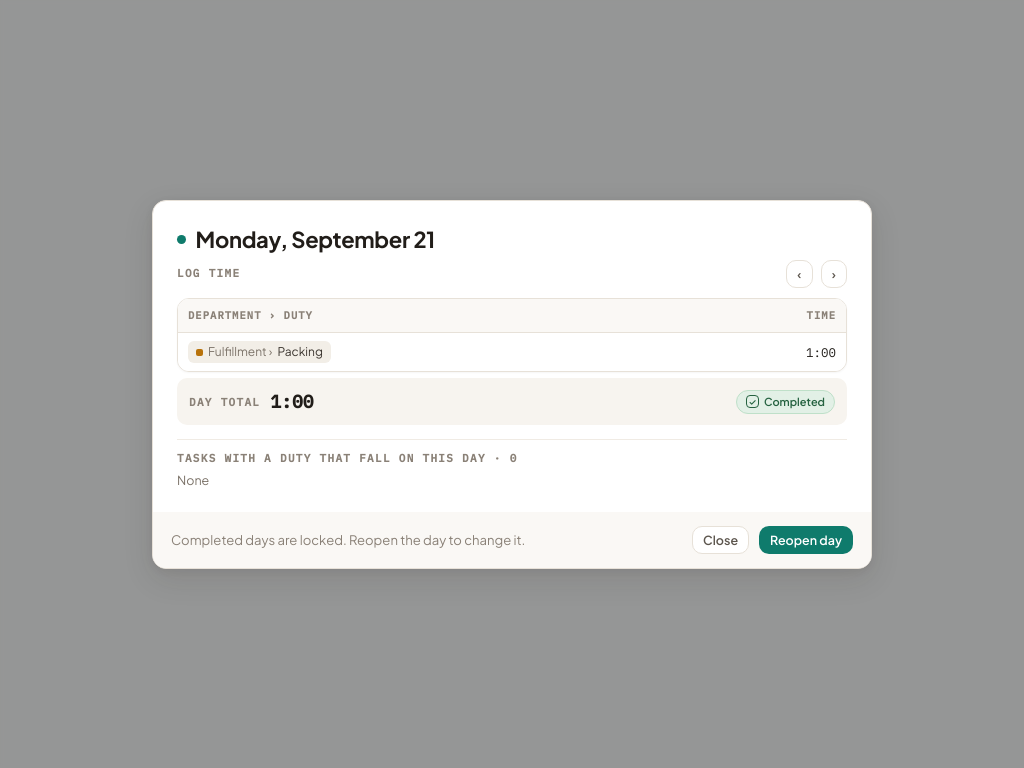
Test: DayEditorModal › locks a completed day until it is reopened
The width and height of the screenshot is (1024, 768).
Expected: the text "Completed days are locked. Reopen the day to change it." is shown, [171,530,525,549]
Expected: the button "Save day" is not shown
Click the button "Reopen day": (806, 540) [759,526,853,554]
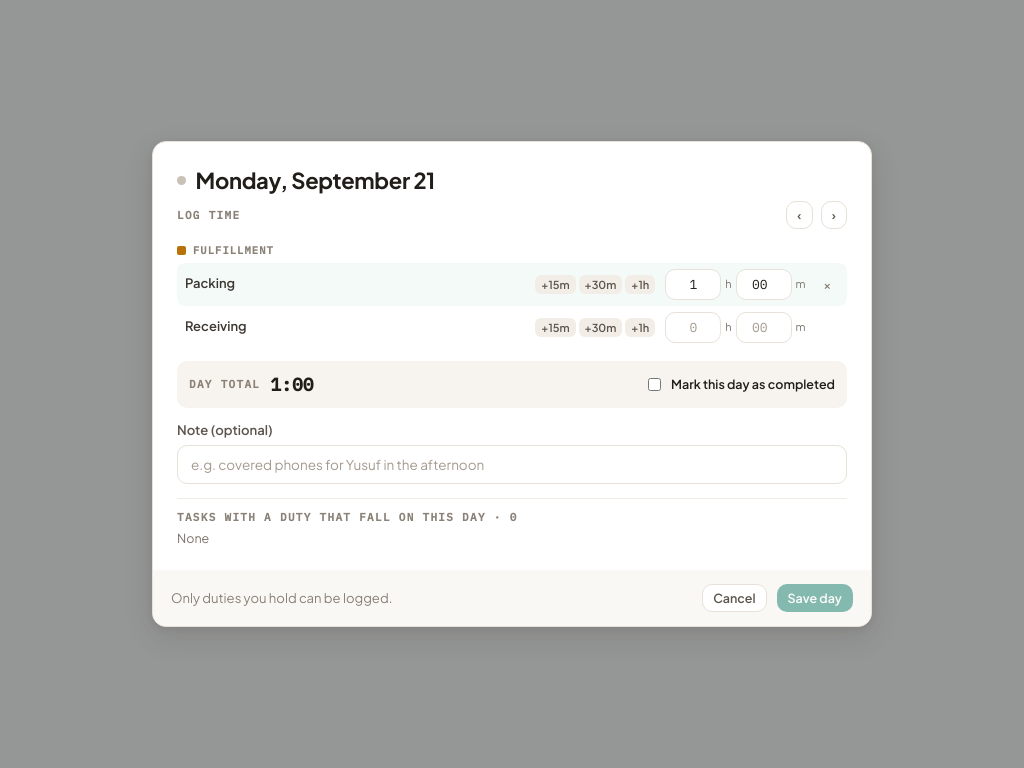
Expected: the button "Save day" is shown, [777,584,853,612]
